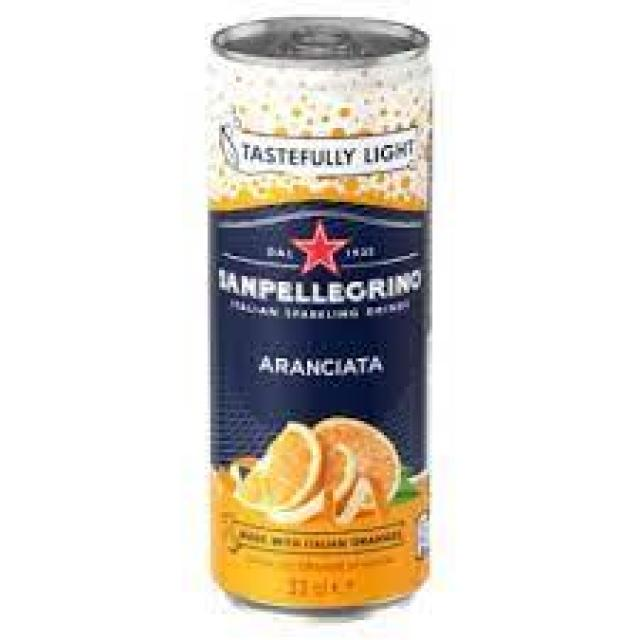Cans: (202, 11, 447, 623)
